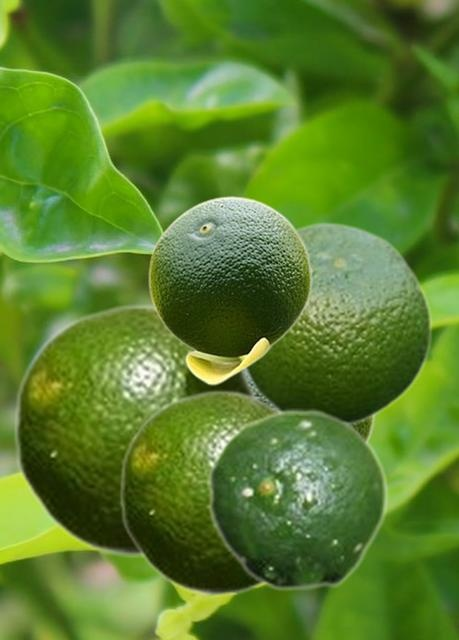calamansi: (12, 303, 253, 556), (242, 220, 432, 425), (207, 408, 388, 591), (118, 389, 272, 595), (148, 196, 311, 384)
